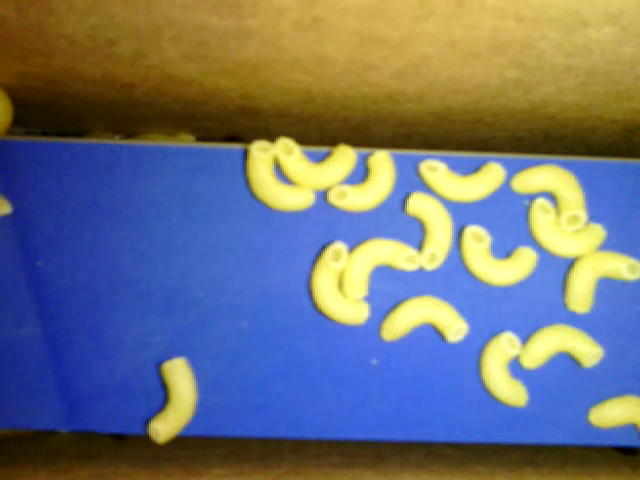elbow: (510, 164, 589, 233), (459, 224, 540, 290), (246, 139, 317, 213), (340, 237, 420, 302), (309, 240, 368, 328), (562, 252, 639, 319), (146, 355, 201, 447), (529, 198, 609, 260), (380, 293, 468, 348), (326, 146, 398, 213), (274, 135, 359, 191), (519, 322, 605, 371), (403, 192, 455, 271), (417, 160, 507, 205), (479, 331, 531, 407), (588, 393, 639, 431)
